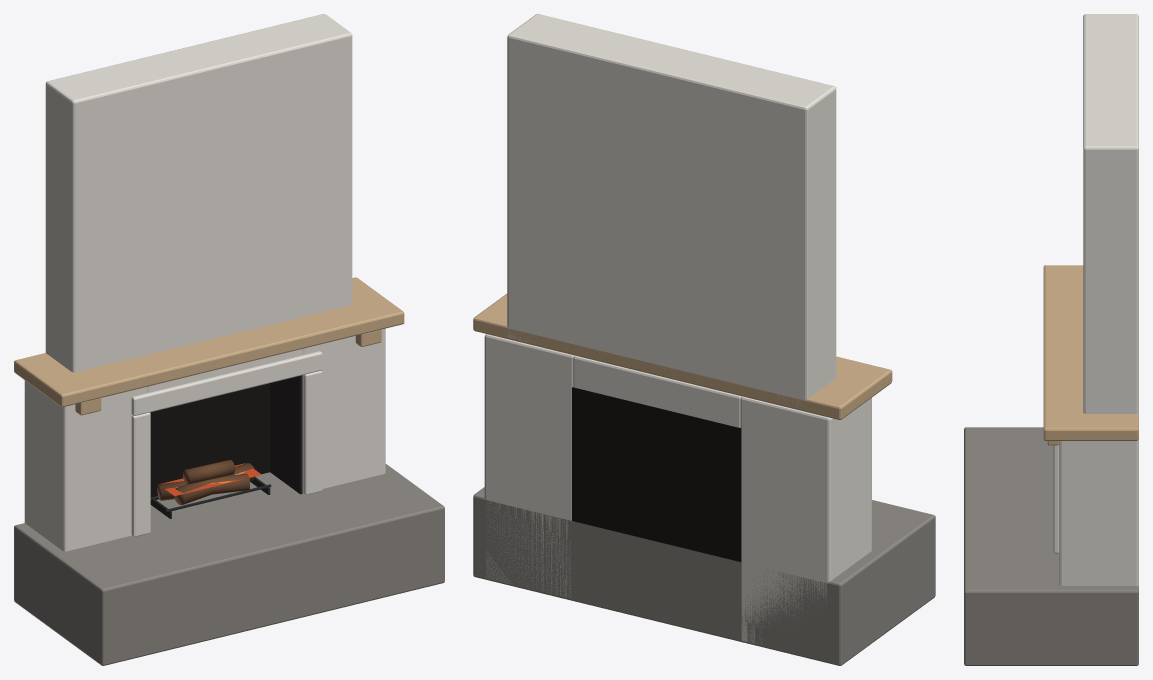
File: fireplace.glb
The picture shows the model from 3 angles, left to right: view 1: azimuth 30°, elevation 25°; view 2: azimuth 150°, elevation 25°; view 3: azimuth 270°, elevation 25°; orthographic projection. The views are drawn at different scales.
Visible parts, largest first — view 1: body; view 2: body; view 3: body.
Boxes of the visible parts, <box> form: body: <box>14,14,444,665</box>; body: <box>473,14,935,665</box>; body: <box>964,14,1138,665</box>.
Size of the model in its own units: 1.96 by 2.8 by 0.88.
